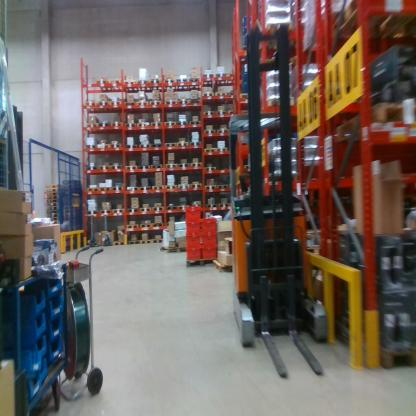forklift: (215, 33, 338, 387)
pallet: (330, 4, 411, 57), (336, 98, 415, 147), (186, 254, 218, 273), (212, 258, 238, 279), (167, 242, 186, 260), (84, 119, 99, 134), (82, 100, 98, 114), (109, 97, 121, 115), (97, 99, 109, 115), (110, 119, 123, 131), (125, 140, 139, 151), (97, 142, 111, 152), (121, 100, 136, 109), (150, 142, 165, 151), (98, 120, 110, 131), (126, 205, 139, 215), (165, 182, 178, 192), (126, 183, 139, 193), (136, 99, 149, 109), (163, 118, 176, 128), (122, 163, 138, 171), (190, 162, 204, 171), (202, 146, 216, 155), (216, 146, 230, 155), (202, 91, 216, 100), (86, 142, 97, 153), (150, 99, 165, 107), (177, 119, 189, 129), (112, 183, 125, 192), (165, 98, 178, 107), (123, 120, 136, 129), (164, 141, 177, 150), (151, 184, 165, 192), (203, 165, 217, 173), (203, 128, 217, 136), (136, 121, 150, 129), (139, 184, 151, 193), (111, 140, 120, 152), (111, 208, 126, 215), (126, 239, 141, 246), (98, 208, 111, 216), (151, 205, 164, 213), (87, 185, 100, 193), (138, 163, 151, 171), (217, 182, 230, 190), (216, 126, 229, 134), (214, 109, 227, 117), (189, 139, 202, 147), (46, 187, 66, 192), (239, 90, 249, 100), (139, 142, 150, 151), (164, 205, 178, 212), (85, 164, 99, 171), (151, 222, 165, 229), (139, 205, 151, 213), (178, 182, 190, 190), (100, 185, 112, 193), (217, 201, 229, 209), (178, 98, 190, 106), (177, 141, 189, 149), (139, 222, 151, 230), (44, 183, 63, 188), (190, 183, 203, 190), (204, 183, 217, 190), (205, 202, 218, 209), (202, 110, 215, 117), (225, 91, 238, 98), (190, 97, 200, 106), (46, 205, 63, 210), (159, 242, 173, 248), (165, 163, 179, 169), (189, 120, 202, 126), (126, 223, 139, 229), (178, 205, 189, 212), (99, 164, 110, 171), (179, 162, 190, 169), (151, 121, 162, 128), (84, 211, 99, 216), (110, 164, 122, 170), (46, 210, 63, 214), (151, 165, 162, 171), (152, 239, 163, 245), (141, 239, 152, 245), (102, 241, 115, 246), (46, 199, 67, 202), (46, 202, 67, 205), (216, 91, 225, 98), (46, 214, 61, 218), (227, 110, 237, 116), (115, 241, 125, 246), (46, 195, 58, 199), (46, 192, 58, 195), (51, 218, 61, 221), (51, 221, 58, 225)
pallet_truck: (86, 207, 100, 250), (100, 203, 112, 250)
small_load_carrier: (200, 217, 220, 232), (183, 219, 200, 236), (183, 205, 203, 219), (203, 245, 219, 262), (200, 232, 220, 245), (185, 248, 203, 262), (185, 236, 201, 248)
